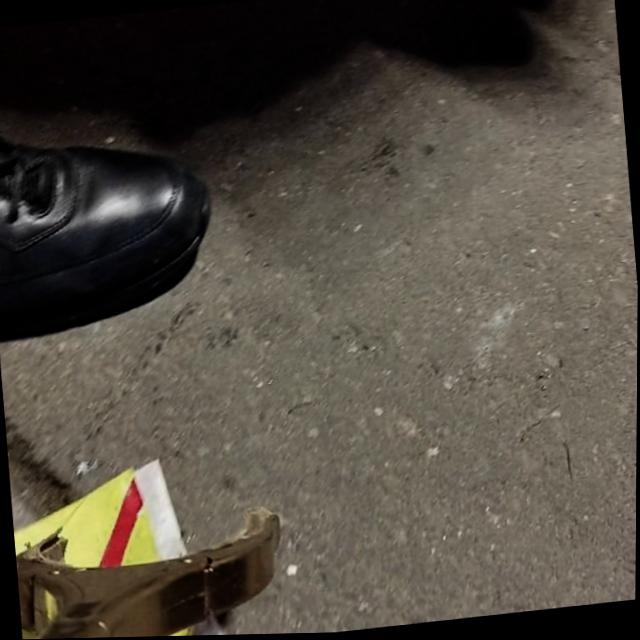Paper: (7, 445, 234, 640)
